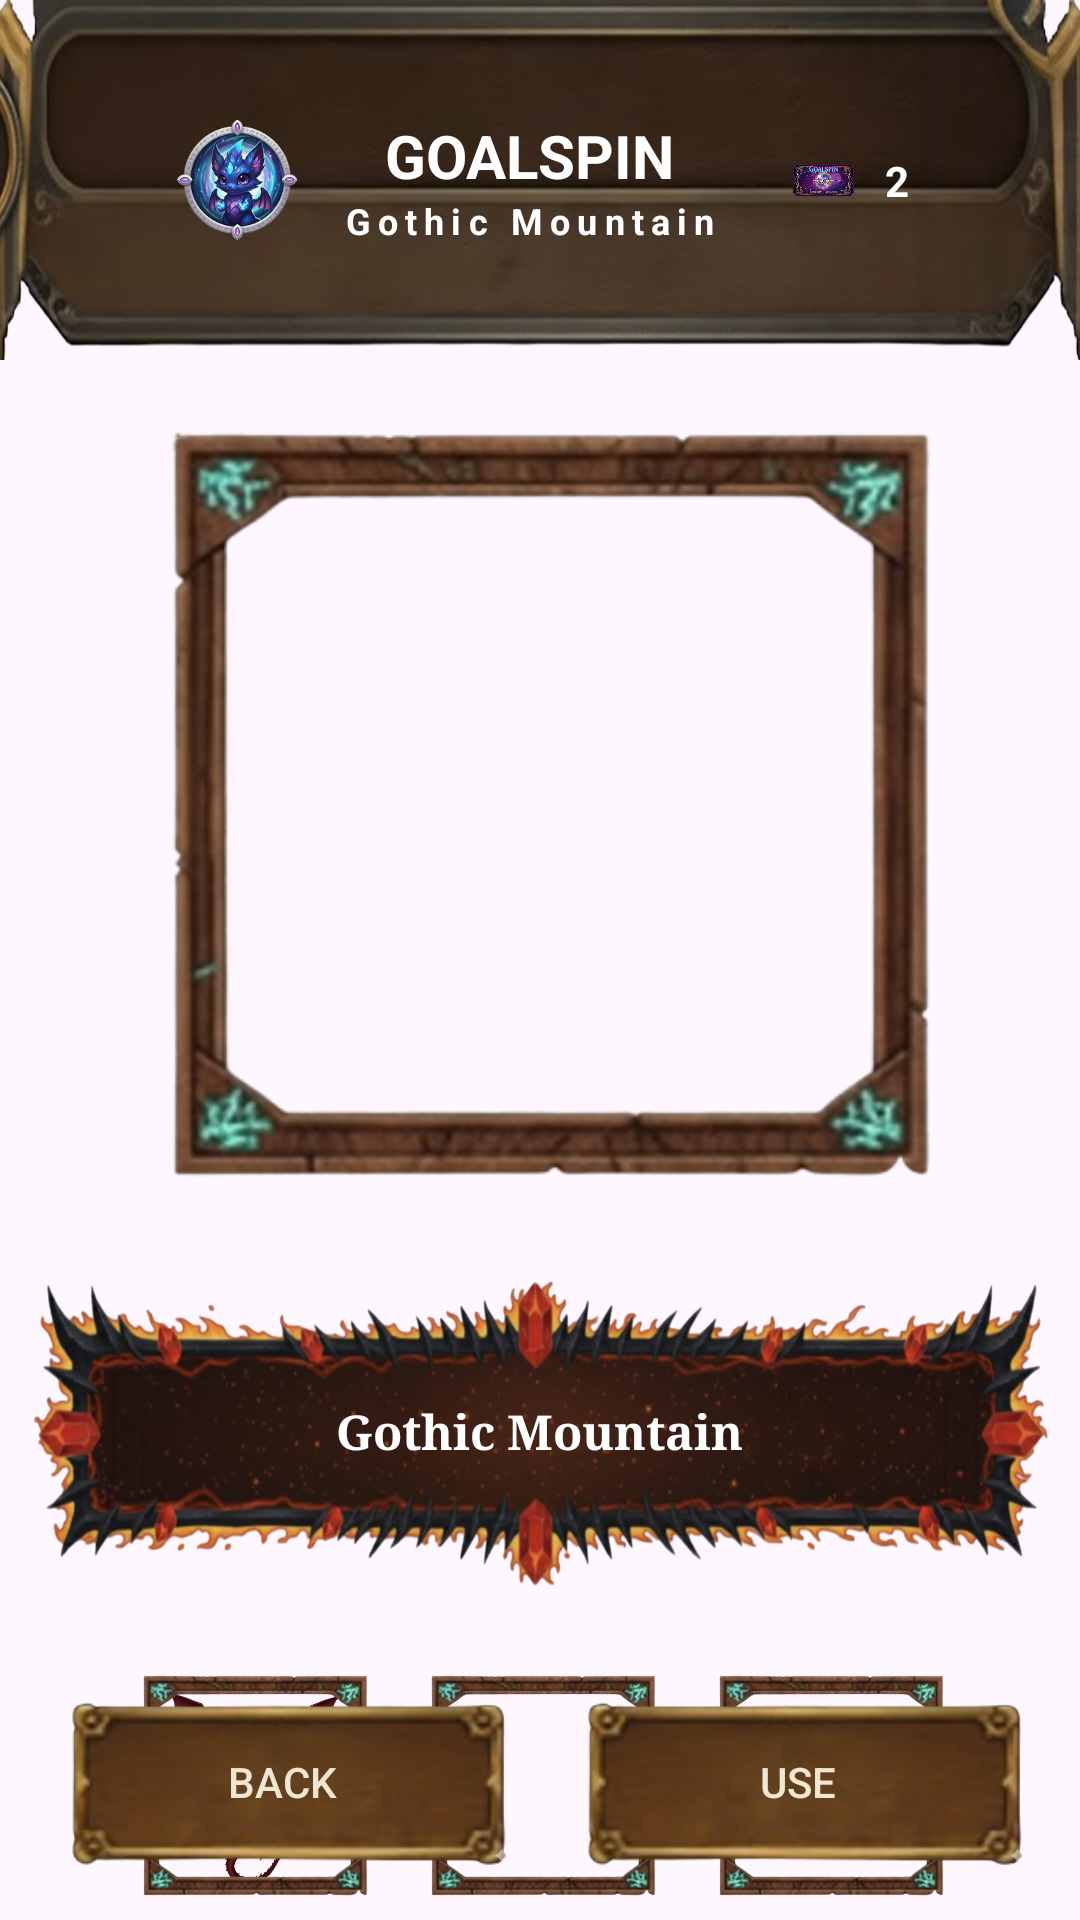

Icons on this 1080px×1920px Android screen, each with its box as region(x1, y1, x2, y2):
proflie: region(165, 120, 309, 252)
ticket: region(786, 165, 861, 197)
